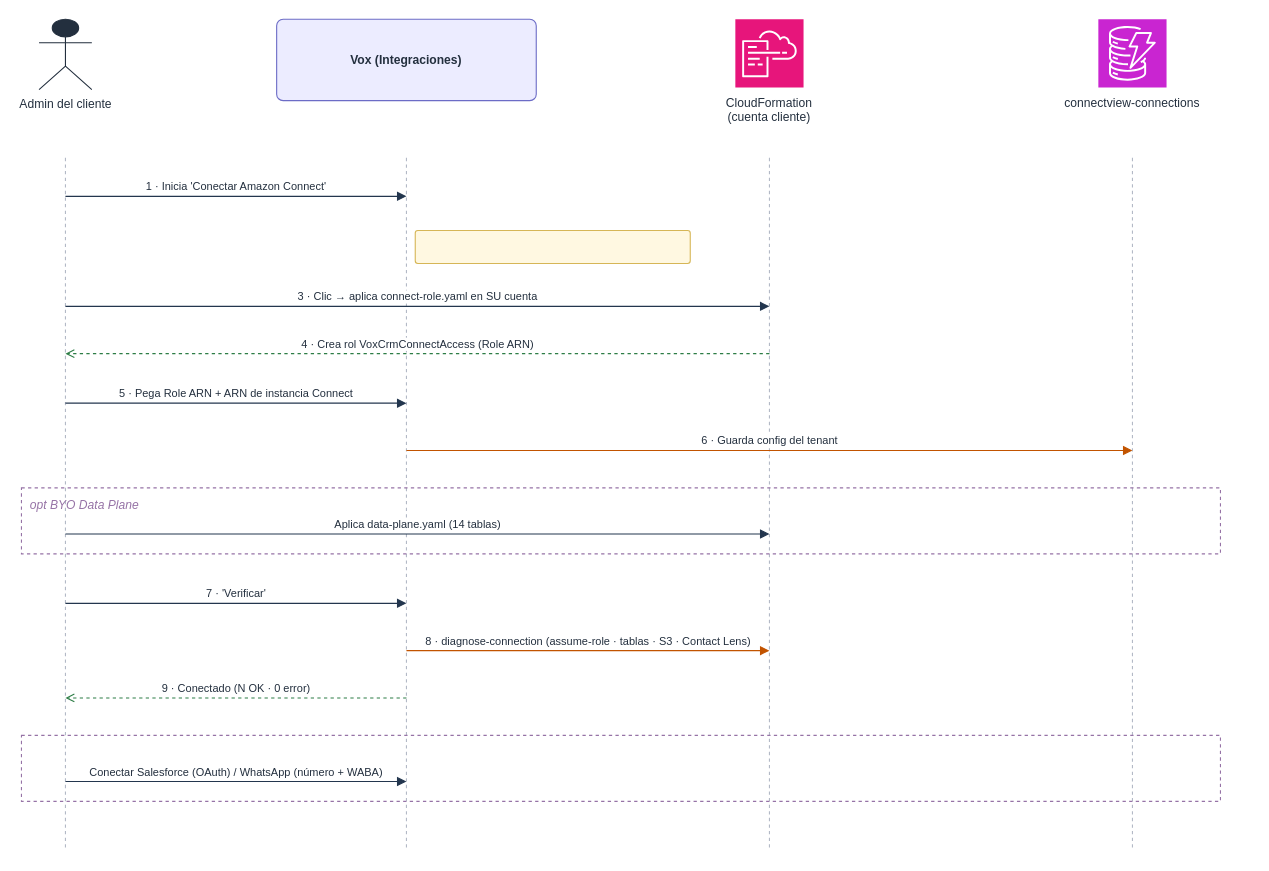
The diagram is 1269 pixels wide and 871 high, and some of its shapes have lost their labels. The shapes that lost their labels are listed below. From the top down, each one's box as (x1, y1, x2, y2) in pixels, then its label:
(414, 229, 690, 263): 2 · Genera ExternalId (CSPRNG) + URL Launch Stack
(20, 734, 1220, 801): opt Integraciones adicionales
